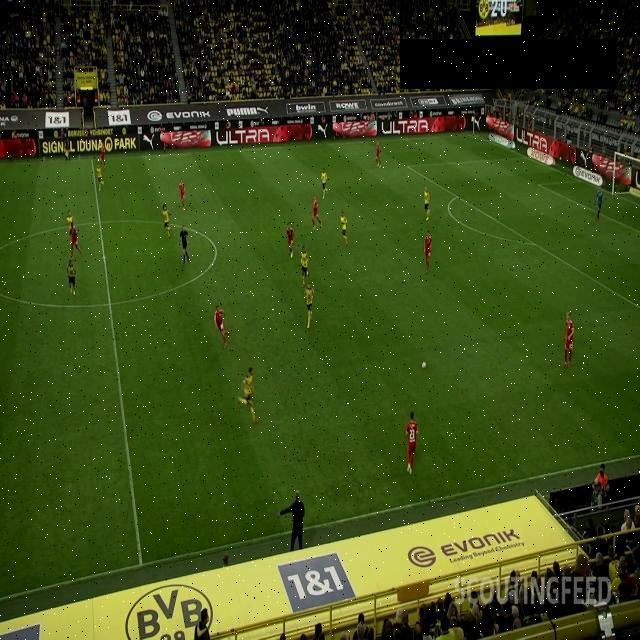Ball: (422, 361, 426, 369)
Corner: (472, 114, 475, 136)
GoalKeeper: (594, 186, 604, 222)
Referee: (180, 223, 190, 265), (64, 131, 70, 161)
TEAM 1: (406, 410, 418, 474), (214, 304, 229, 349), (562, 312, 574, 368), (68, 224, 82, 260), (424, 230, 432, 274), (312, 196, 322, 230), (286, 222, 294, 258), (178, 178, 186, 212), (100, 141, 106, 169), (375, 140, 381, 168)
TEAM 2: (239, 366, 259, 424), (304, 282, 314, 330), (300, 245, 310, 288), (66, 258, 76, 296), (339, 210, 348, 248), (162, 204, 170, 238), (320, 167, 328, 200), (424, 186, 431, 220), (96, 162, 104, 191), (66, 209, 74, 231)
